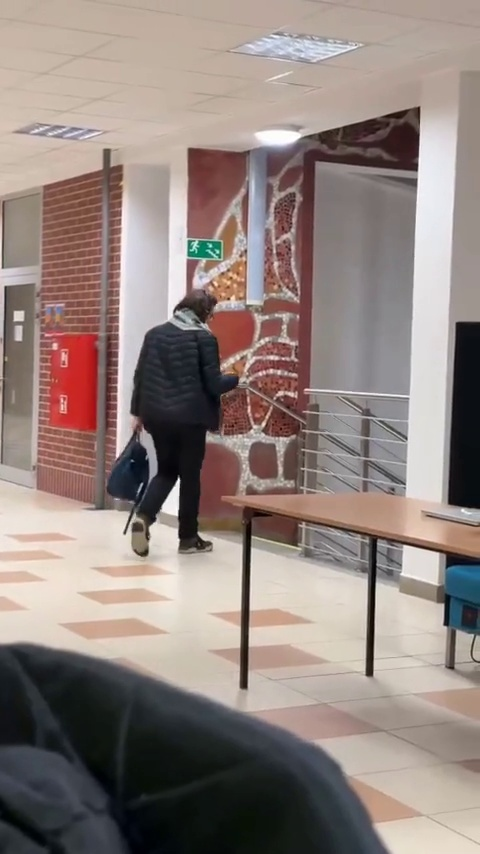no vest: (126, 291, 238, 553)
